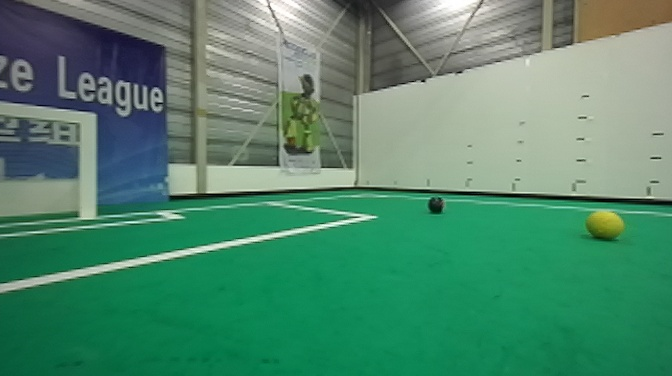ball: (582, 203, 626, 246), (424, 195, 447, 218)
goal: (1, 99, 102, 222)
goalpost: (76, 111, 98, 221)
